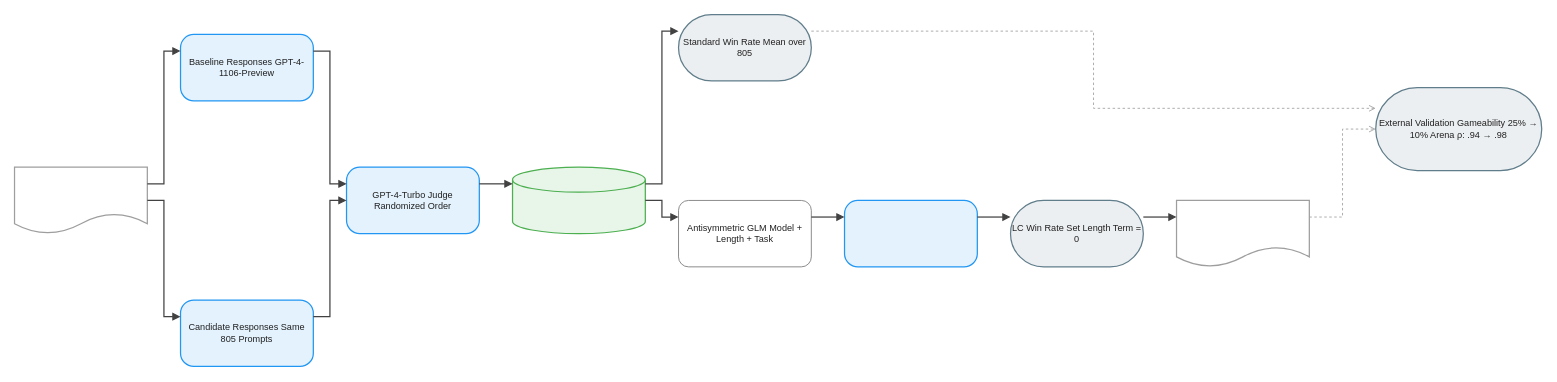
This 1557x382 diagram has some shape labels left out. The shapes that lost their labels are listed below. From the top down, each one's centre as x and y in pixels, then its label:
(81,200): Fixed Instructions 805 Alpaca Prompts
(579,200): Pairwise Preference Probability per Prompt
(911,233): Fit and Regularize 5-fold CV + L2
(1243,233): Win-rate Semantics Self 50%; Swap Symmetry
